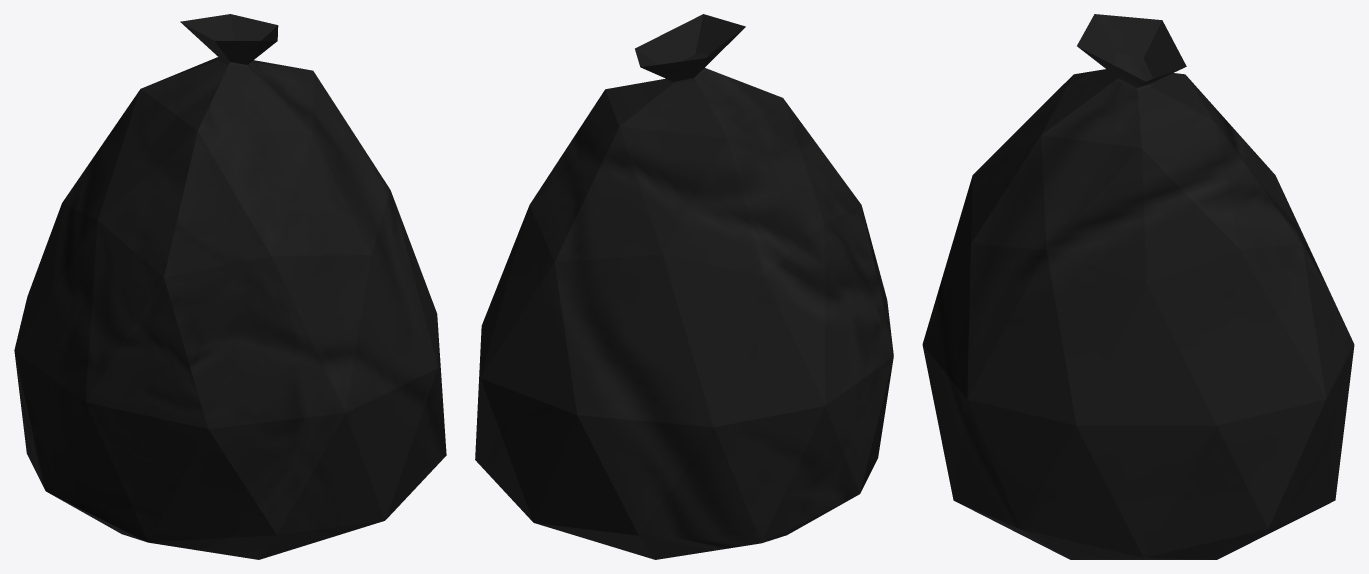
Rendered from trash1.fbx.
3 renders of one model, left to right at view 1: azimuth 30°, elevation 25°; view 2: azimuth 150°, elevation 25°; view 3: azimuth 270°, elevation 25°, orthographic. The views are drawn at different scales.
Parts seen in each view (by area): view 1: garbage-bag-round; view 2: garbage-bag-round; view 3: garbage-bag-round.
Part boxes in pixels (x1,y1,x2,y2): garbage-bag-round: [14, 14, 446, 559]; garbage-bag-round: [475, 14, 893, 559]; garbage-bag-round: [922, 14, 1354, 559].
Size of the model in its own units: 53.25 by 69.93 by 56.3.
